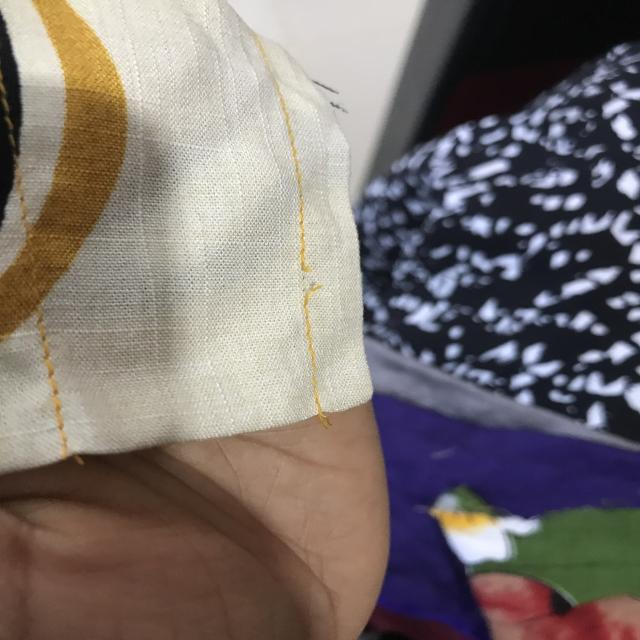broken: (279, 252, 344, 315)
